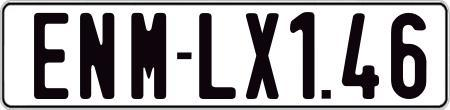1: (288, 10, 315, 101)
4: (342, 12, 383, 100)
6: (389, 11, 429, 100)
E: (32, 12, 71, 100)
L: (198, 12, 236, 98)
M: (129, 13, 168, 102)
N: (79, 11, 117, 98)
X: (243, 13, 279, 100)
